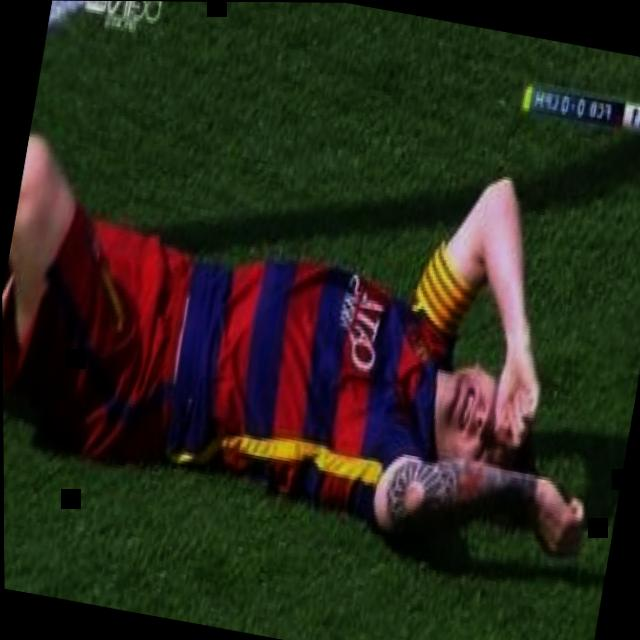Fall-Detected: (0, 65, 640, 593)
